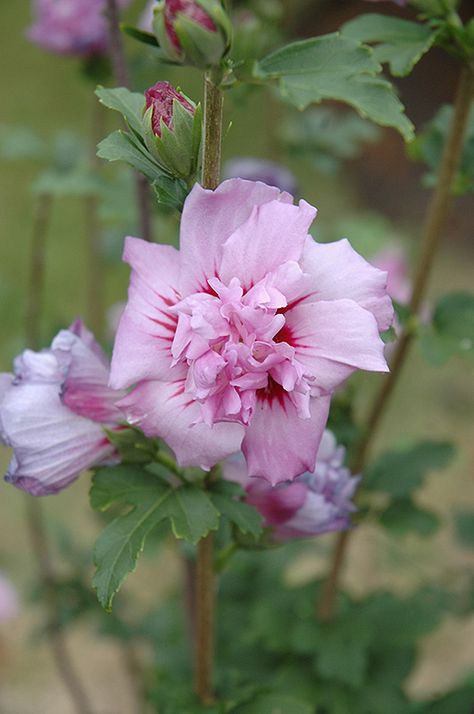Hibiscus: (100, 182, 405, 477), (3, 318, 137, 507), (250, 448, 370, 547), (123, 1, 239, 75), (120, 86, 211, 179)
